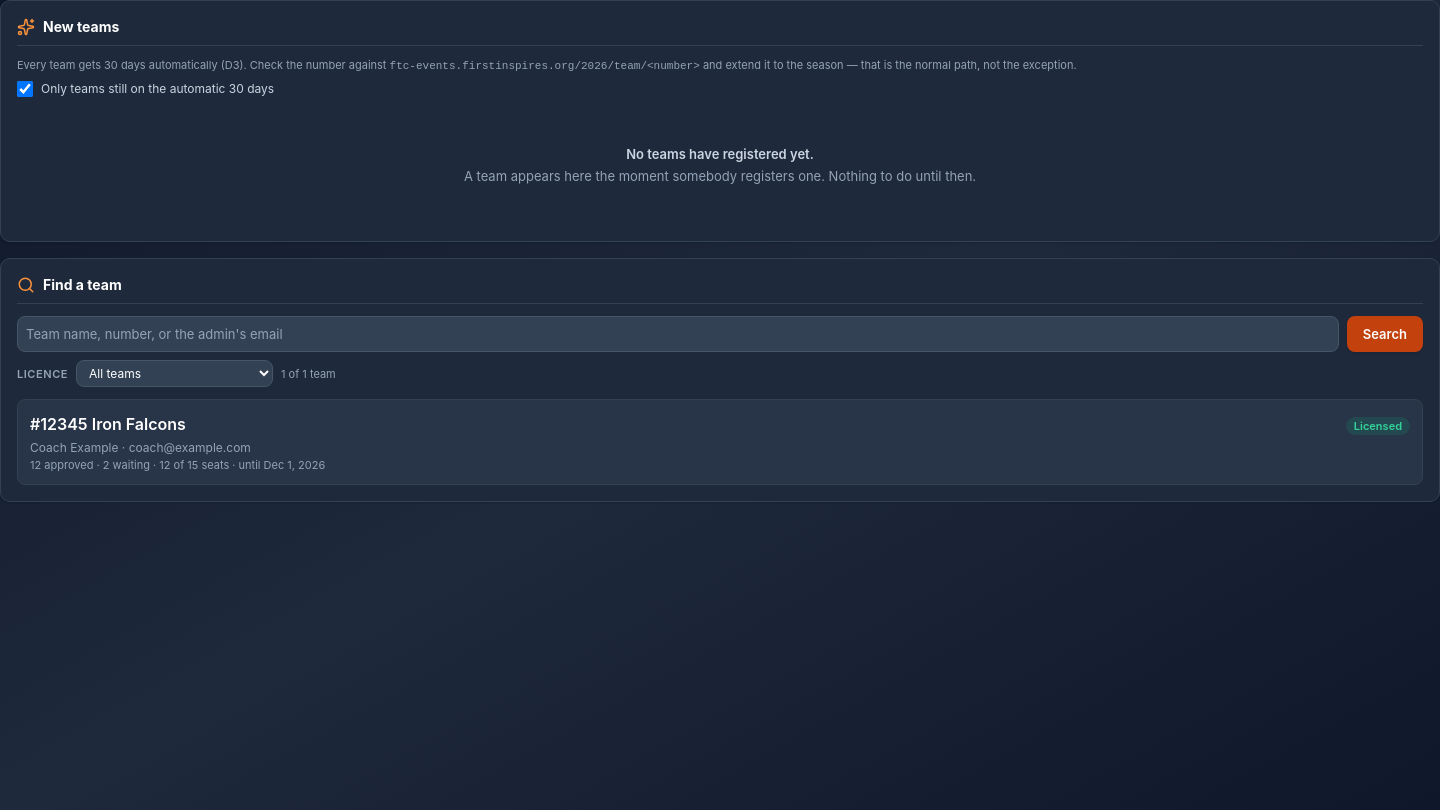
SEC-11 — erasing a person from the console › asks first, names the person, and says what stays
This screenshot has width=1440, height=810.
Click the text "#12345 Iron Falcons" at (108, 424), box [30,412,186,436]
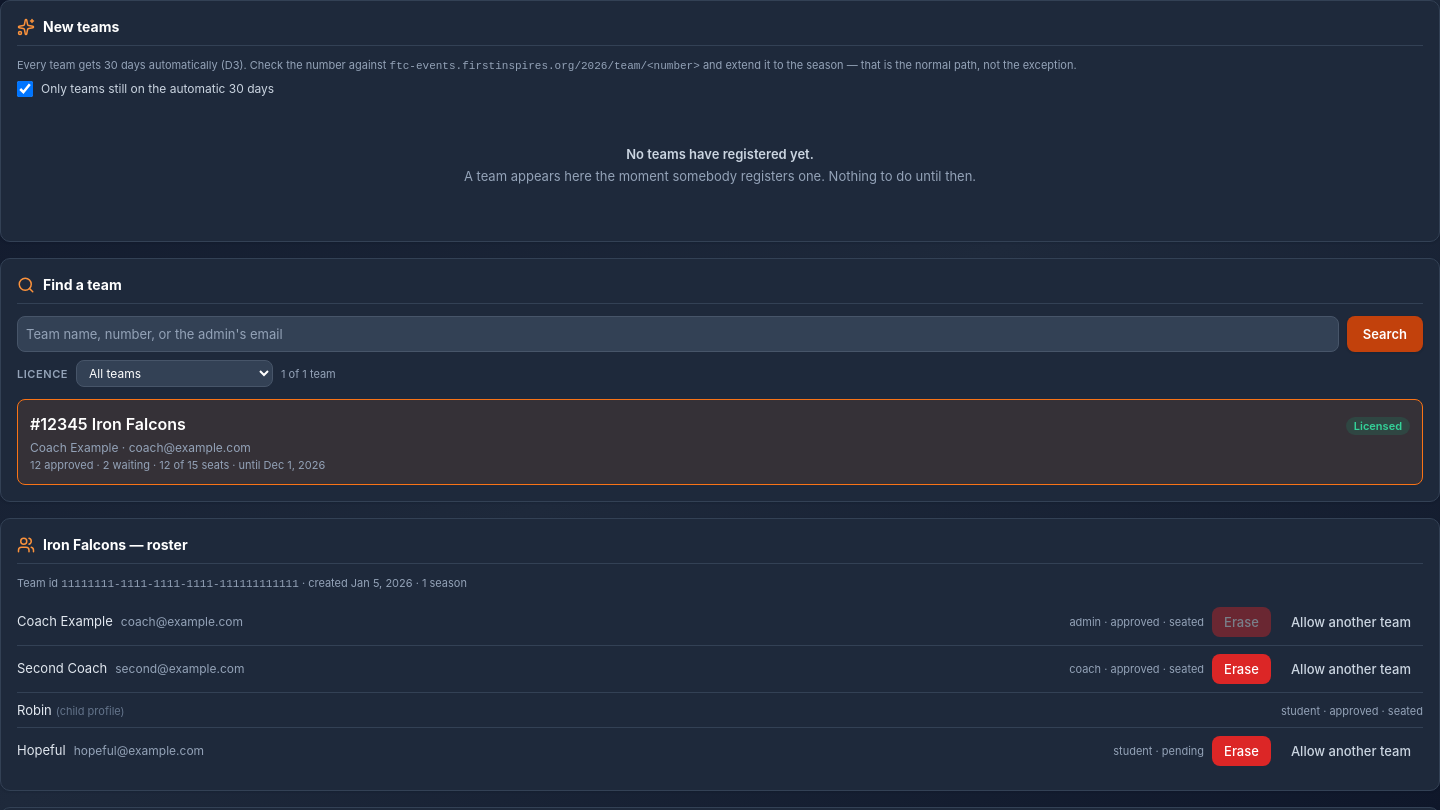
Check: the heading "Iron Falcons — roster" is shown, box [17,535,188,555]
Click the button with test id "erase-user-m-coach" at (1242, 669), box [1212,654,1271,684]
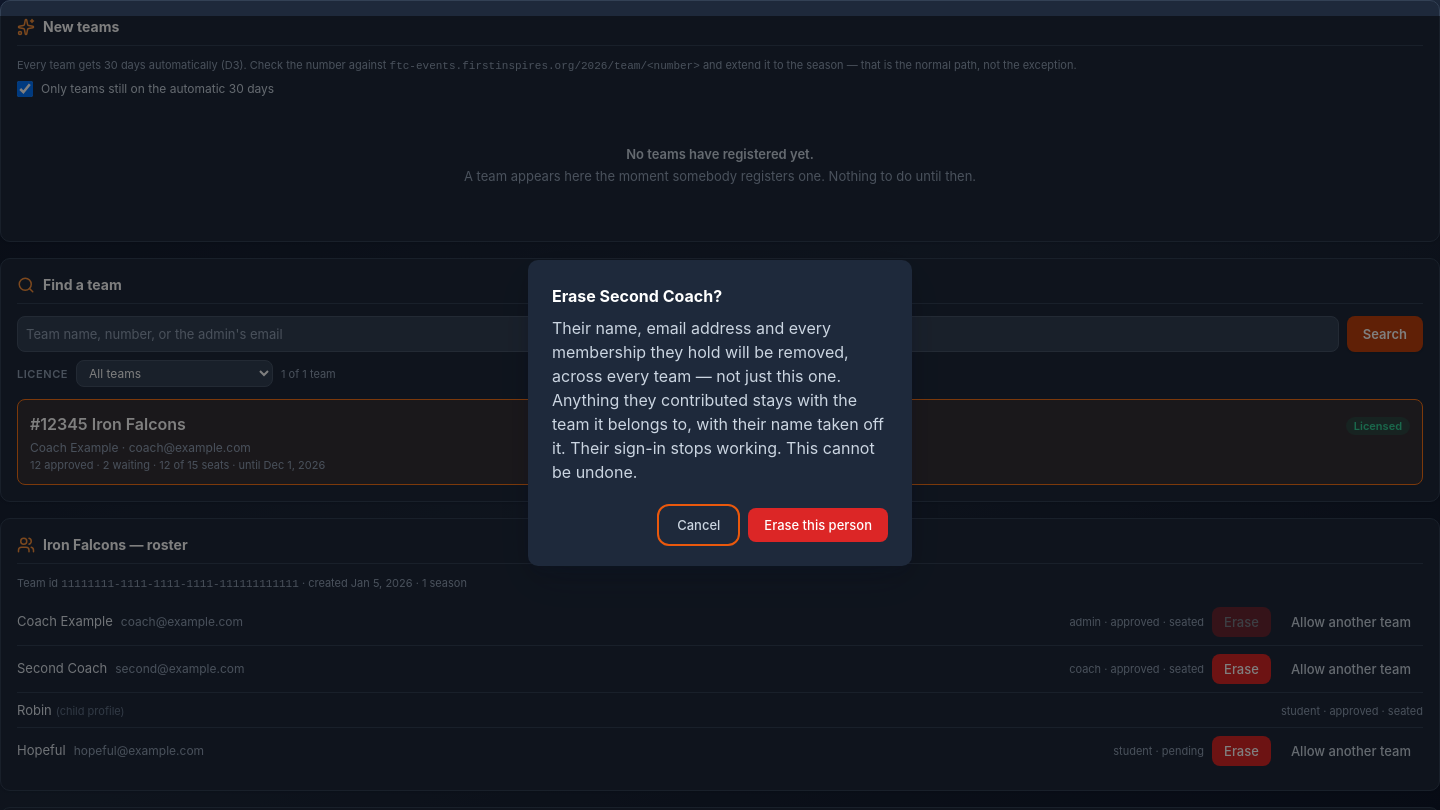
Check: the heading "Erase Second Coach?" is shown, box [552,286,722,306]
Check: the text "stays with the team" is shown, box [552,318,884,482]
